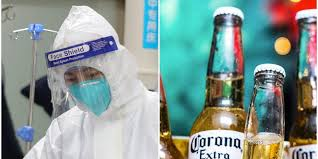mask: (44, 39, 126, 118)
